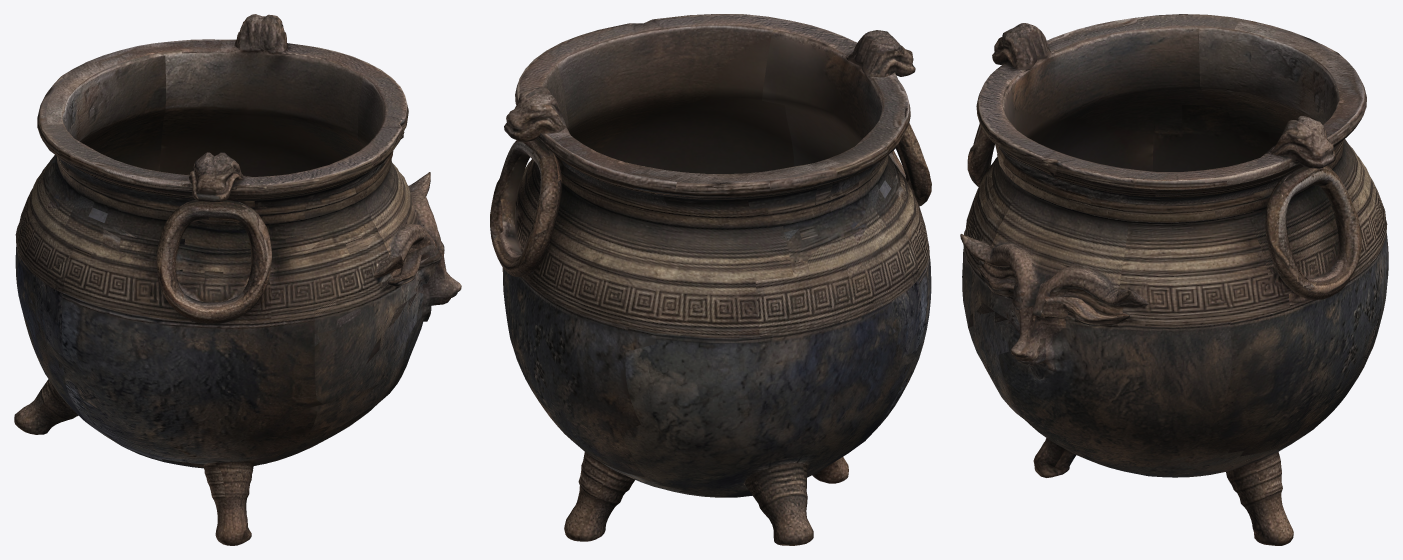
Rendered from cauldron.glb.
3 renders of one model, left to right at view 1: azimuth 30°, elevation 25°; view 2: azimuth 150°, elevation 25°; view 3: azimuth 270°, elevation 25°, orthographic. The views are drawn at different scales.
Visible parts, largest first — view 1: mesh_rep_0_ori_repair_0; view 2: mesh_rep_0_ori_repair_0; view 3: mesh_rep_0_ori_repair_0.
Boxes of the visible parts, x1,y1,x2,y2 form: mesh_rep_0_ori_repair_0: (14, 14, 461, 545); mesh_rep_0_ori_repair_0: (490, 14, 931, 545); mesh_rep_0_ori_repair_0: (960, 14, 1388, 545).
Bounding box in the file's own units: 0.5693 × 0.6095 × 0.5432.
1 material, 1 textured.
